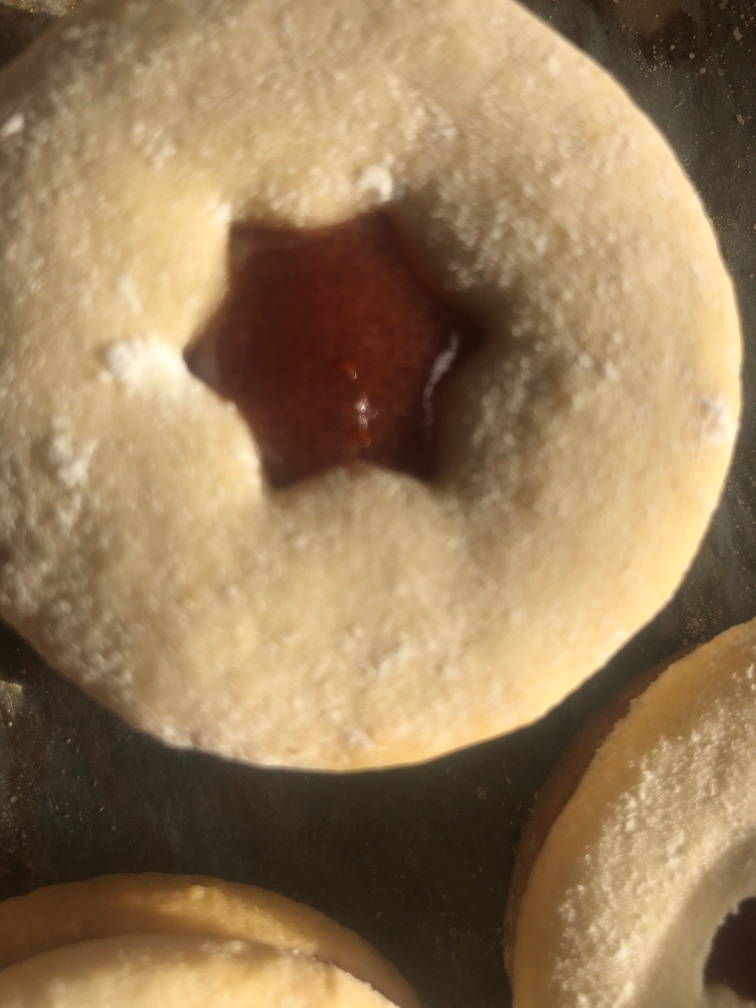christmas shortbread with jam: (7, 1, 745, 764), (509, 615, 756, 1008)
